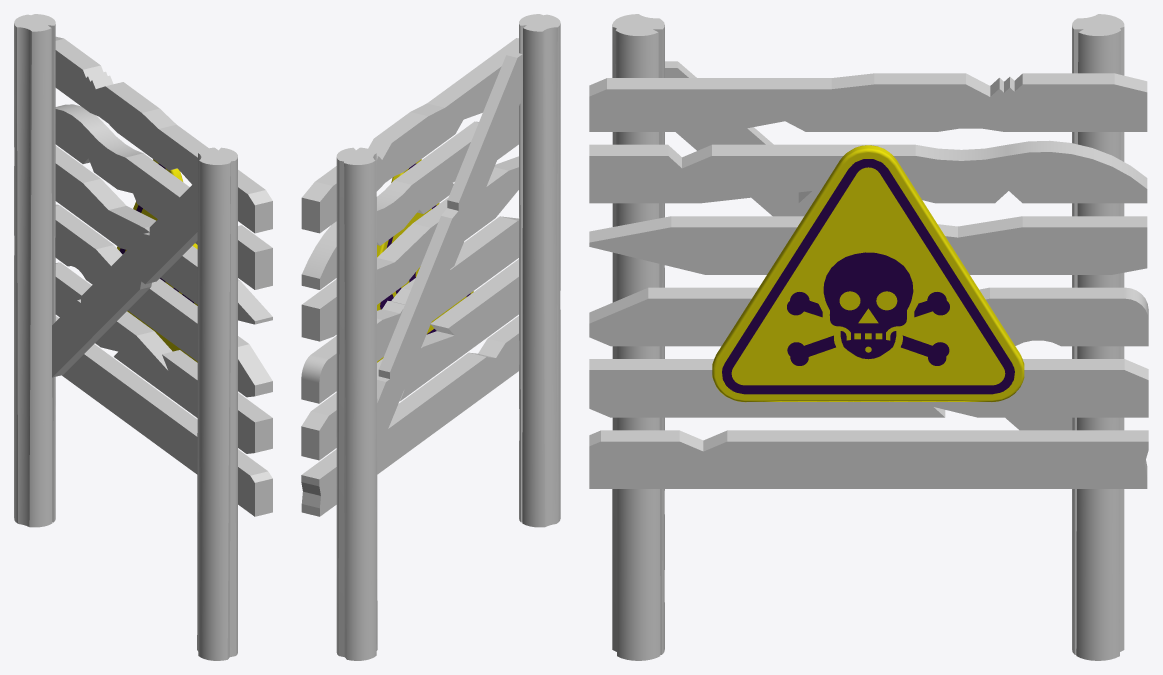
The model's file is 0-Sign.fbx.
3 views of the same model, side by side, from view 1: azimuth 30°, elevation 25°; view 2: azimuth 150°, elevation 25°; view 3: azimuth 270°, elevation 25° (orthographic). The views are drawn at different scales.
Visible parts, largest first — view 1: Sweep [19771]; view 2: Sweep [19771]; view 3: Sweep [19771].
Boxes of the visible parts, <box> form: Sweep [19771]: <box>14,14,272,660</box>; Sweep [19771]: <box>301,14,560,660</box>; Sweep [19771]: <box>589,14,1148,660</box>.
Size of the model in its own units: 28 by 210 by 170.
